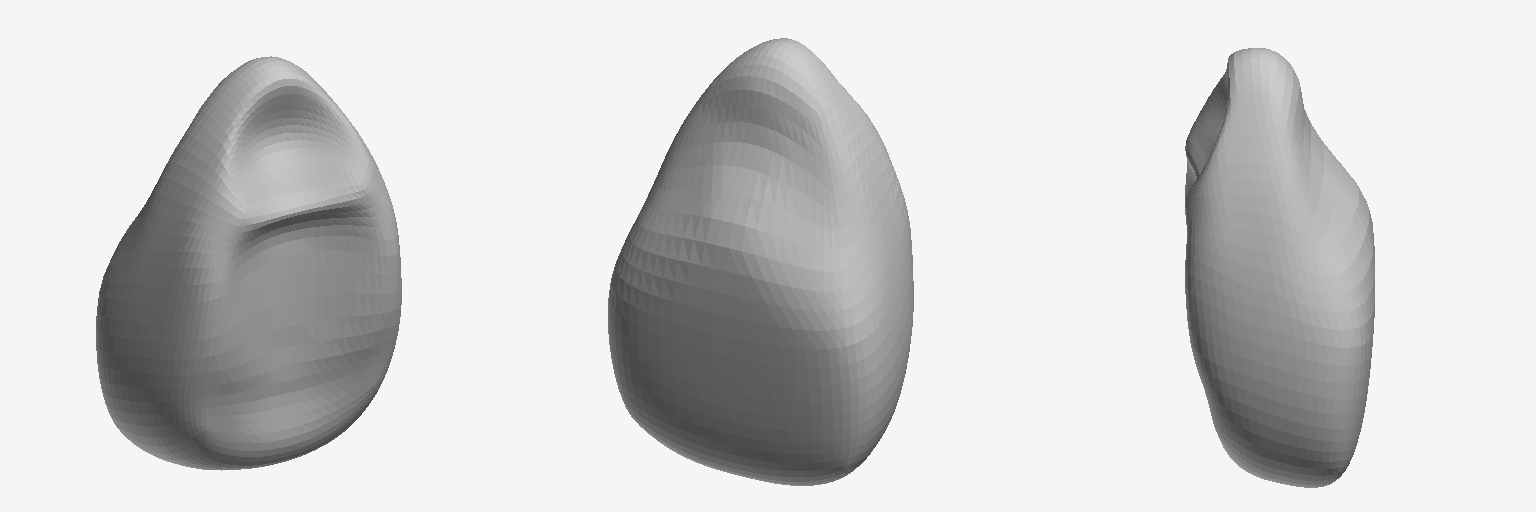
File: vertabrae7.obj
The picture shows the model from 3 angles: view 1: azimuth 30°, elevation 25°; view 2: azimuth 150°, elevation 25°; view 3: azimuth 270°, elevation 25°; orthographic projection.
Visible parts, largest first — view 1: Cube.101_Cube.103; view 2: Cube.101_Cube.103; view 3: Cube.101_Cube.103.
Boxes of the visible parts, x1,y1,x2,y2 form: Cube.101_Cube.103: [96, 56, 401, 470]; Cube.101_Cube.103: [608, 38, 913, 485]; Cube.101_Cube.103: [1185, 48, 1374, 487].
Bounding box in the file's own units: 0.0802 × 0.1166 × 0.0494.